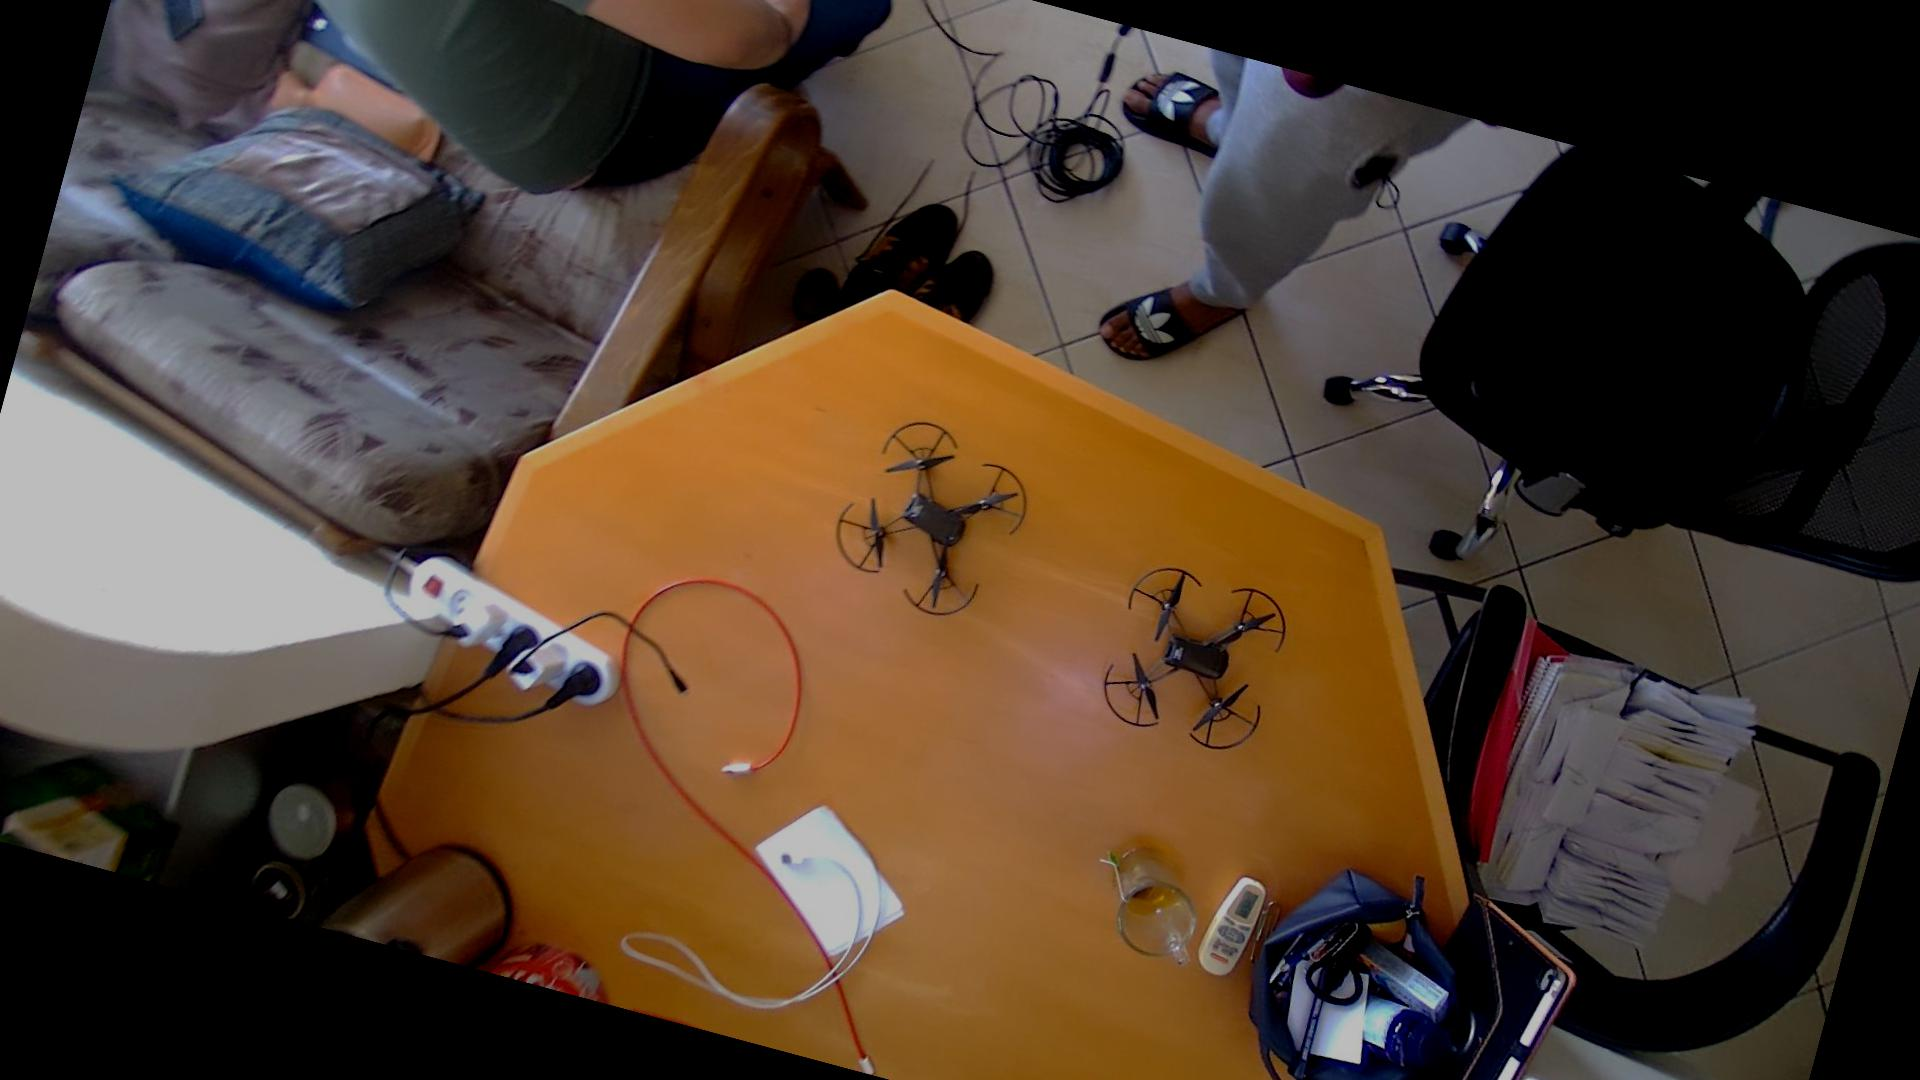dji-tello-edu-drone: (800, 378, 1079, 658), (1062, 529, 1329, 798)
